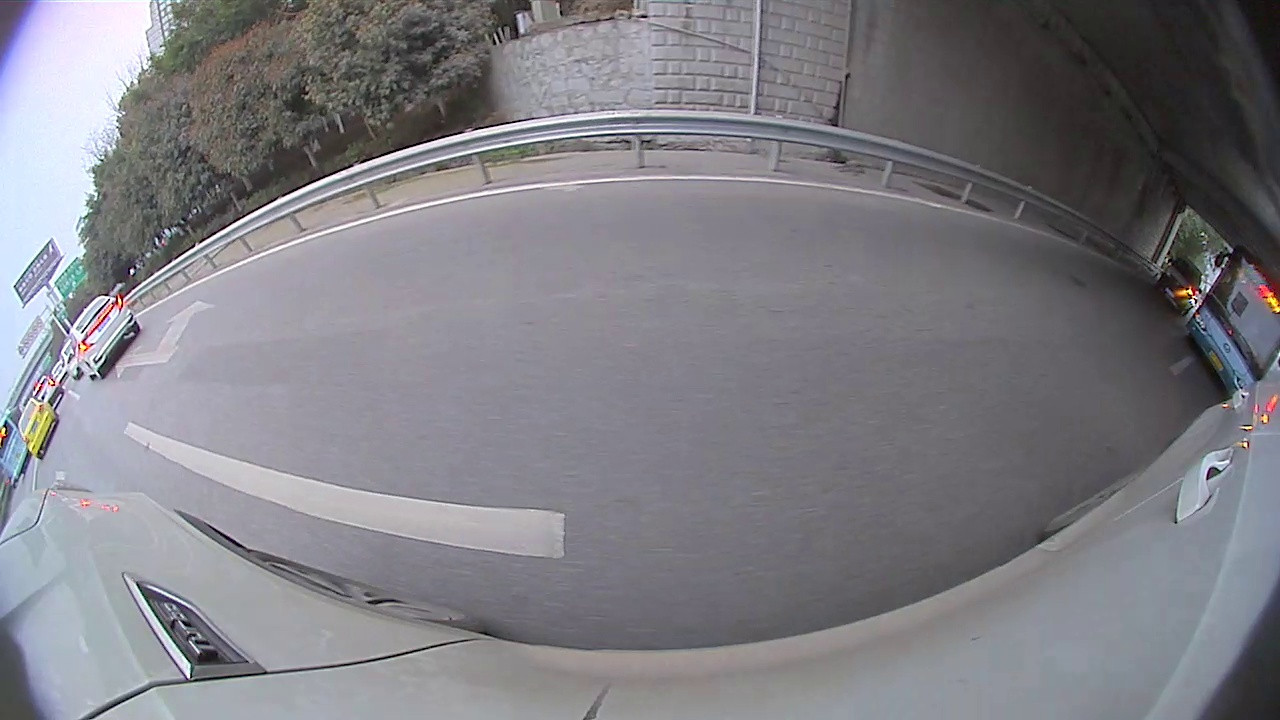bus: (2, 236, 86, 349), (1157, 279, 1209, 357)
car: (214, 28, 812, 285), (883, 131, 1040, 245), (131, 126, 249, 242), (1087, 257, 1164, 343), (1191, 362, 1232, 422)
front: (634, 165, 755, 275), (1014, 220, 1037, 246)
rear: (266, 205, 341, 284), (945, 186, 978, 220), (157, 216, 179, 240)
